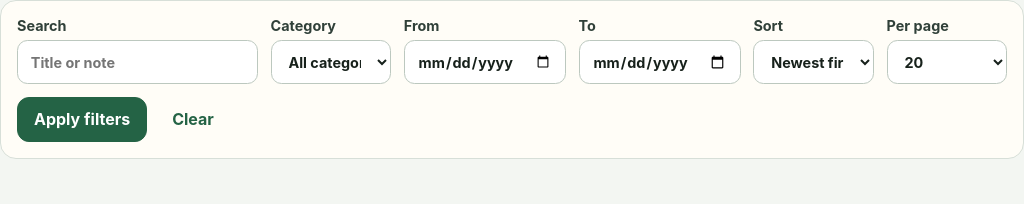
Test: ExpenseFilters › requires both inclusive date boundaries before applying
Type "2026-08-01" into the date field labelled "From" at [485, 62], box [404,40,566,84]
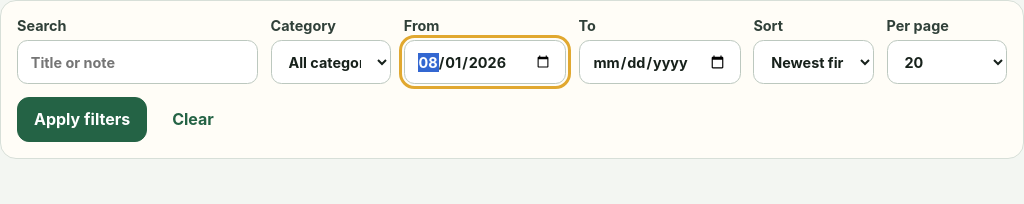
Click the button "Apply filters" at [82, 119], box [17,97,147,142]
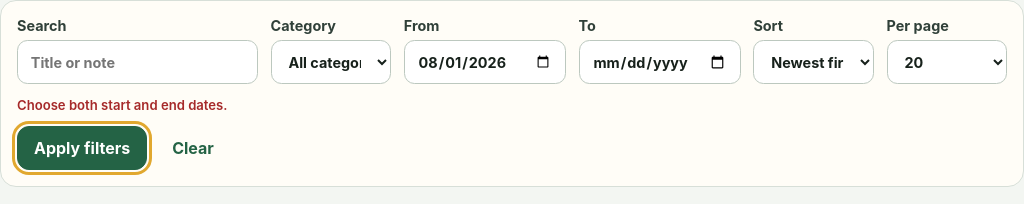
Expected: the message reads "Choose both start and end dates.", [17,97,228,113]
